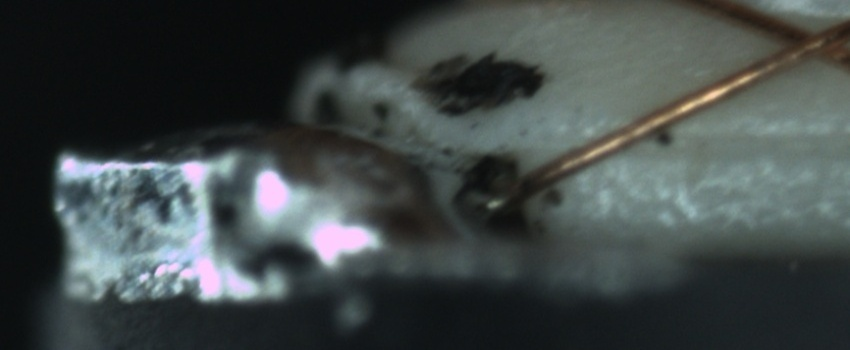CL: (759, 10, 847, 75)
DL: (606, 101, 847, 176)
